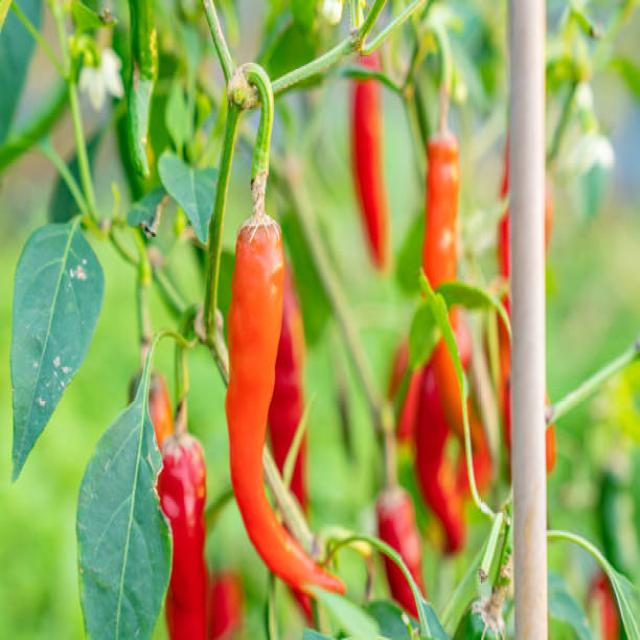Ripe: (225, 176, 343, 593), (158, 435, 207, 638)
